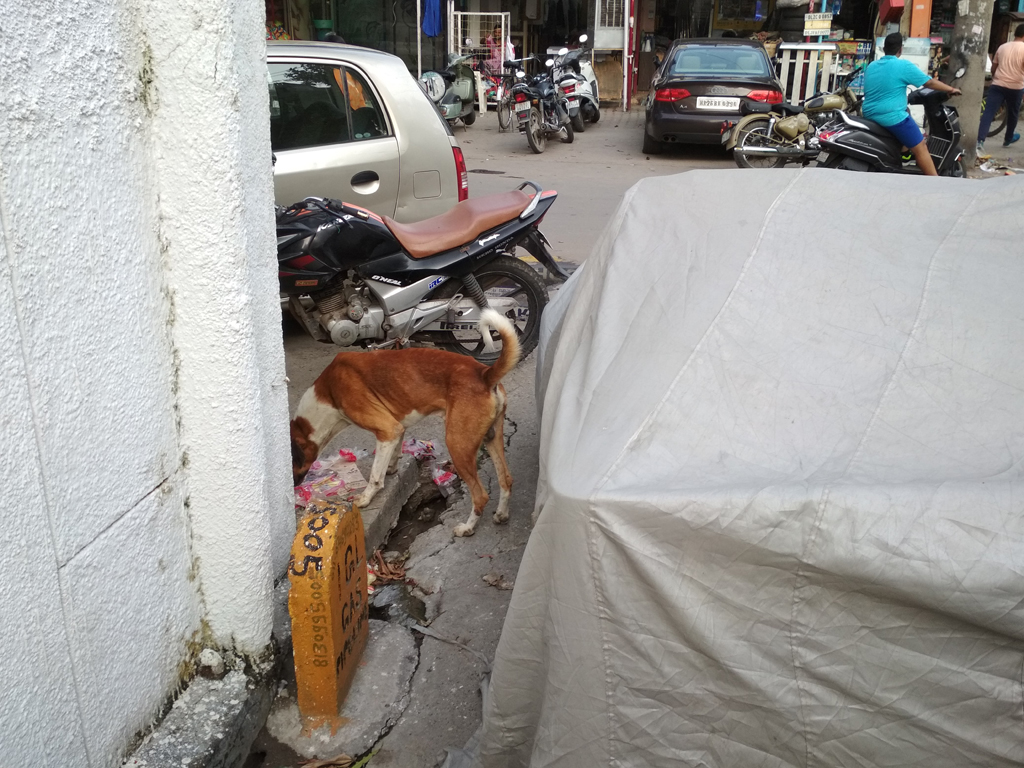dog: (291, 305, 519, 538)
